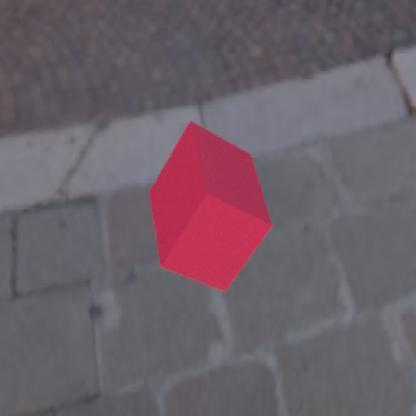cube: (148, 120, 272, 291)
